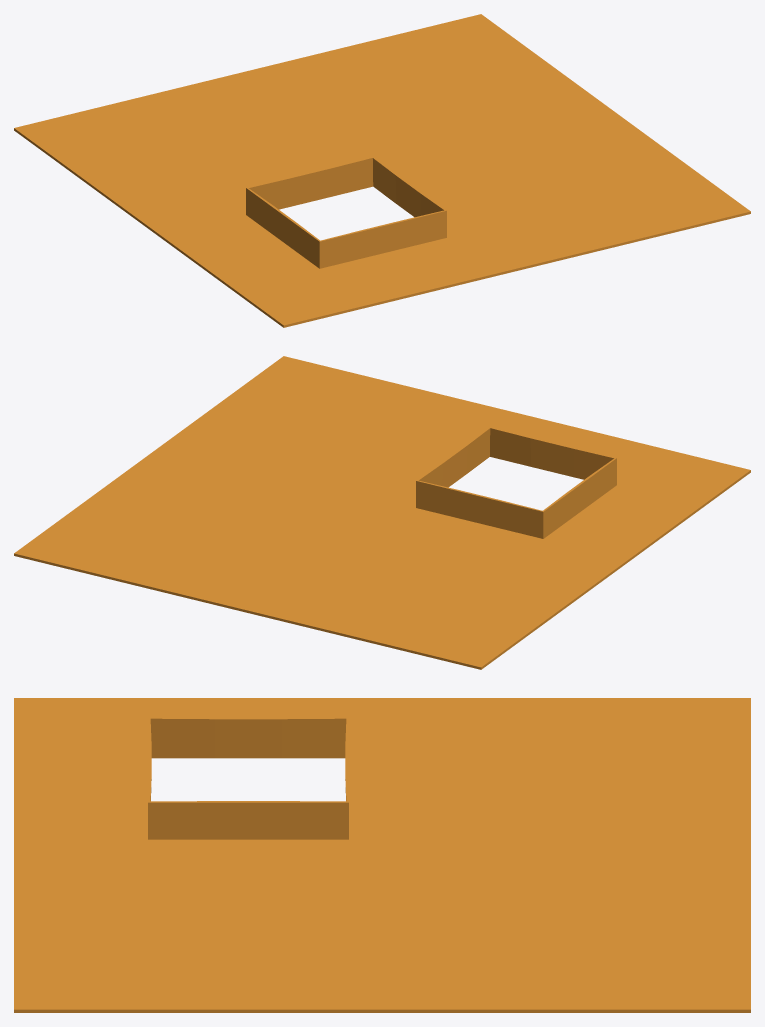
Rendered from upbge-sample-level-01.glb.
The picture shows the model from 3 angles, top to bottom: view 1: azimuth 30°, elevation 25°; view 2: azimuth 150°, elevation 25°; view 3: azimuth 270°, elevation 25°; orthographic projection. The views are drawn at different scales.
Parts seen in each view (by area): view 1: level; view 2: level; view 3: level.
Boxes of the visible parts, <box> form: level: <box>14,14,750,327</box>; level: <box>14,356,750,669</box>; level: <box>14,698,750,1012</box>.
Size of the model in its own units: 200 by 12.1 by 200.
